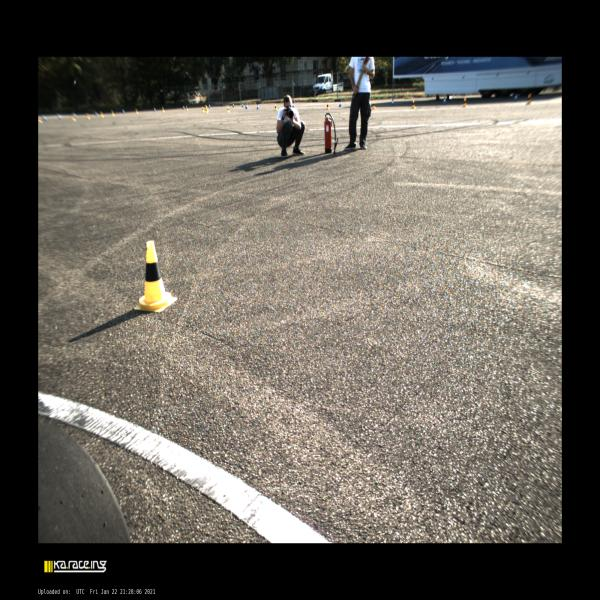blue_cone: (443, 97, 446, 104), (338, 100, 341, 107), (391, 99, 394, 105), (256, 103, 259, 109), (242, 102, 244, 108), (232, 103, 234, 107), (246, 105, 248, 109), (154, 108, 156, 112), (183, 106, 185, 110), (292, 103, 294, 107), (209, 105, 210, 108)
yellow_cone: (134, 240, 177, 312), (526, 95, 531, 105), (462, 97, 466, 107), (412, 100, 416, 109), (372, 102, 376, 109), (326, 102, 329, 110), (227, 106, 230, 113), (274, 104, 277, 110), (162, 107, 165, 113), (206, 108, 208, 113), (202, 107, 204, 112), (136, 109, 138, 114), (186, 106, 188, 111), (112, 111, 114, 116)
